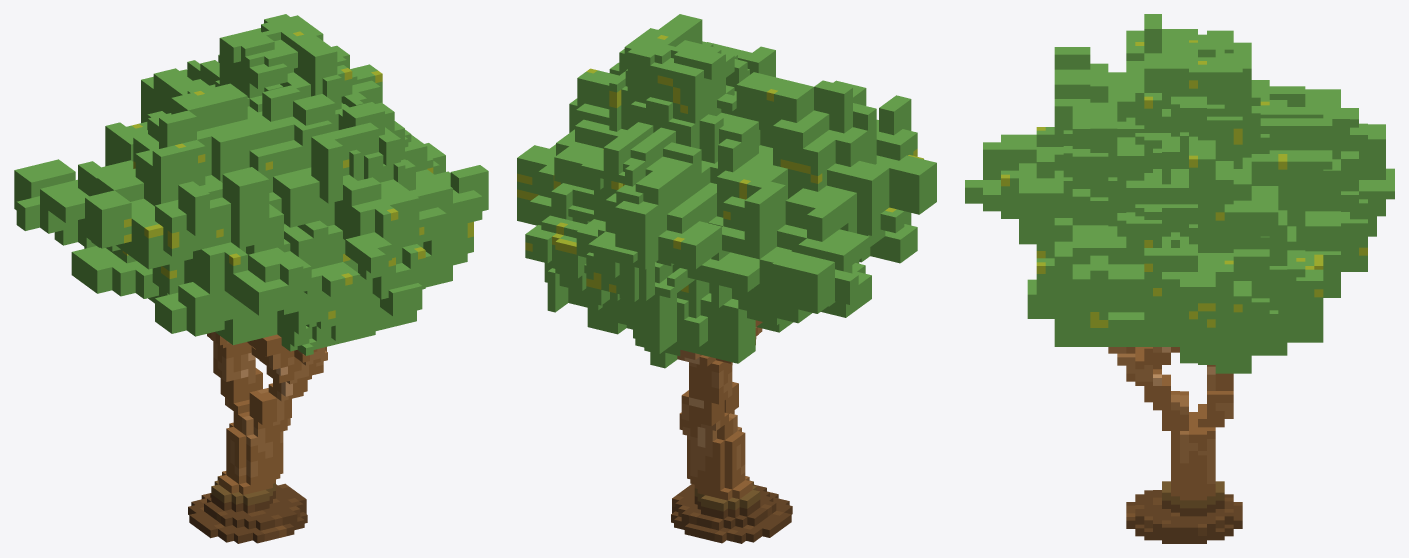
The model's file is 1_2 pitang.obj.
3 views of the same model, side by side, from view 1: azimuth 30°, elevation 25°; view 2: azimuth 150°, elevation 25°; view 3: azimuth 270°, elevation 25° (orthographic). The views are drawn at different scales.
Bounding box in the file's own units: 5 × 6 × 4.8.
Materials: 1 (1 with a texture image).
